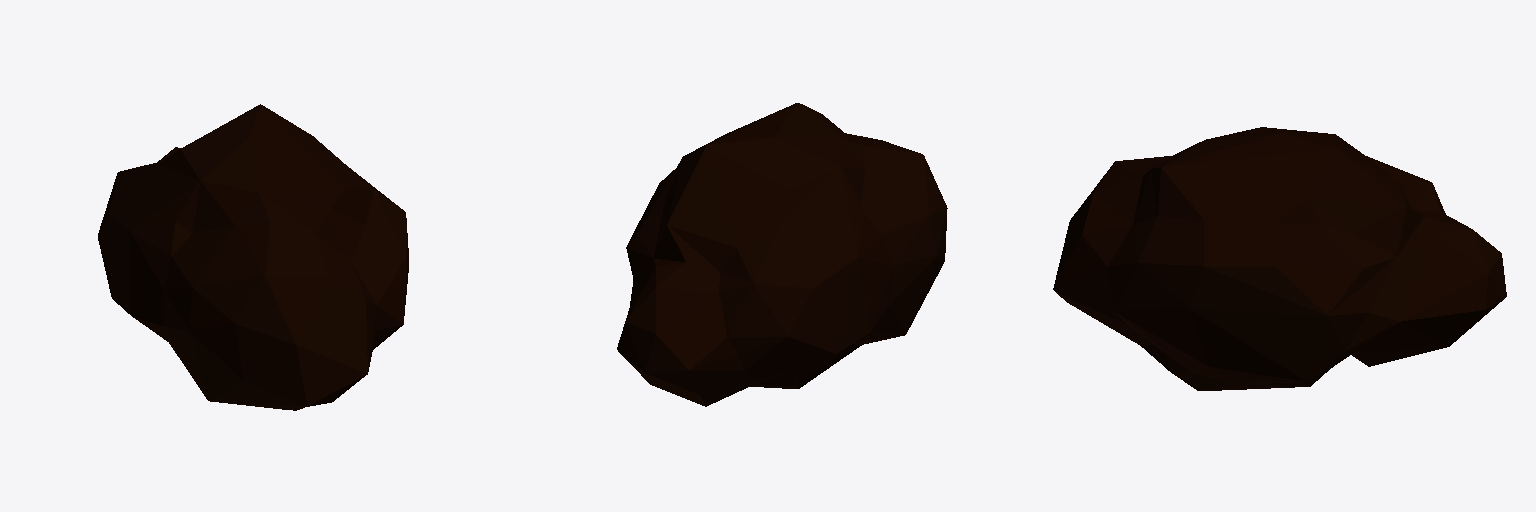
Rendered from Poop.obj.
3 views of the same model, side by side, from view 1: azimuth 30°, elevation 25°; view 2: azimuth 150°, elevation 25°; view 3: azimuth 270°, elevation 25° (orthographic).
Parts seen in each view (by area): view 1: Poop1; view 2: Poop1; view 3: Poop1.
Part boxes in pixels (left/top/right/bottom): Poop1: left=98, top=104, right=408, bottom=410; Poop1: left=617, top=103, right=947, bottom=406; Poop1: left=1053, top=127, right=1506, bottom=390.
Size of the model in its own units: 0.6 by 0.6 by 1.